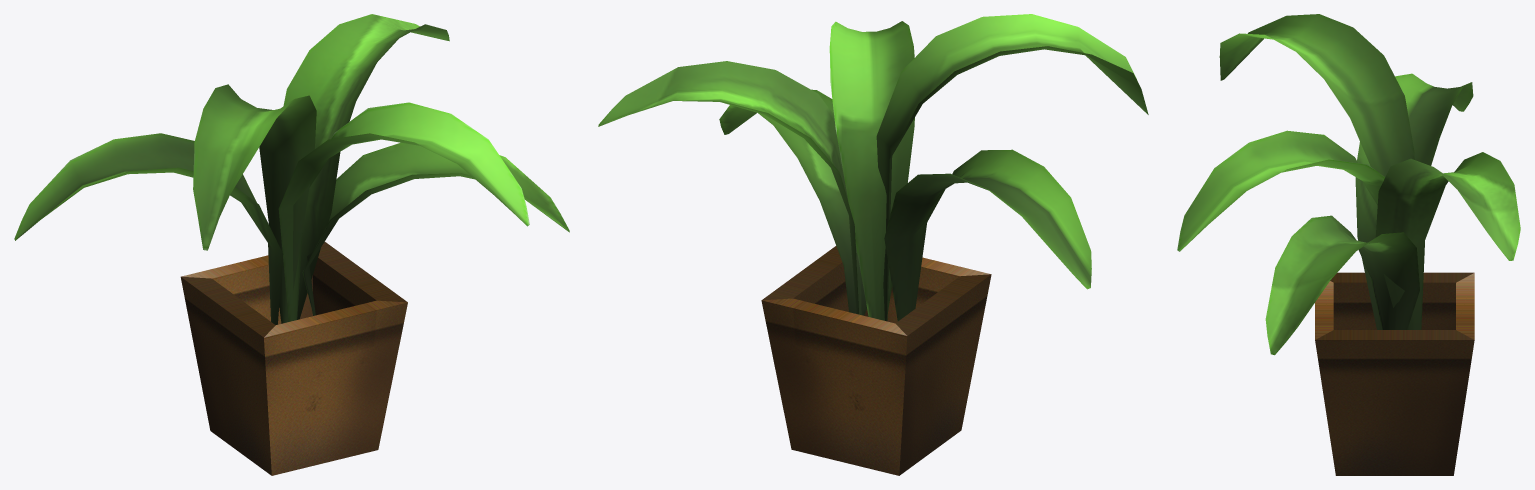
Rendered from Tx_Props_Plant_ScienceDept.fbx.
3 renders of one model, left to right at view 1: azimuth 30°, elevation 25°; view 2: azimuth 150°, elevation 25°; view 3: azimuth 270°, elevation 25°, orthographic. The views are drawn at different scales.
Visible parts, largest first — view 1: Tx_Props_Plant_ScienceDept; view 2: Tx_Props_Plant_ScienceDept; view 3: Tx_Props_Plant_ScienceDept.
Boxes of the visible parts, x1,y1,x2,y2 form: Tx_Props_Plant_ScienceDept: (14, 14, 569, 475); Tx_Props_Plant_ScienceDept: (598, 14, 1148, 475); Tx_Props_Plant_ScienceDept: (1177, 14, 1520, 475).
Bounding box in the file's own units: 6.66 × 5.42 × 4.49.
